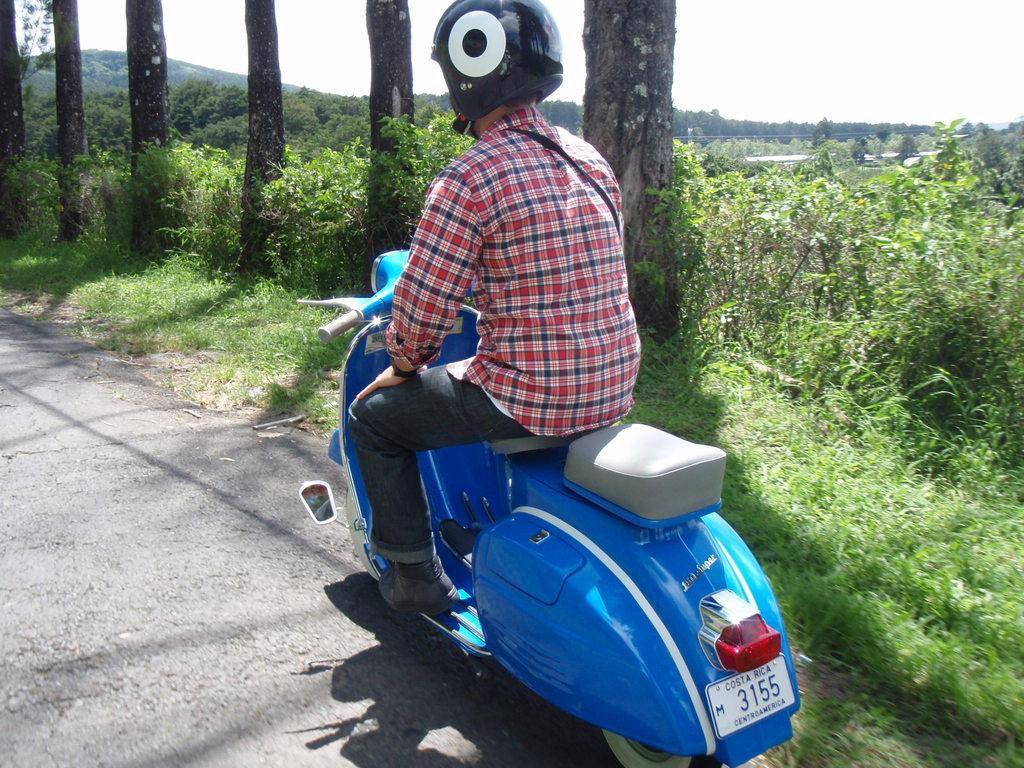helmet: (430, 0, 564, 134)
